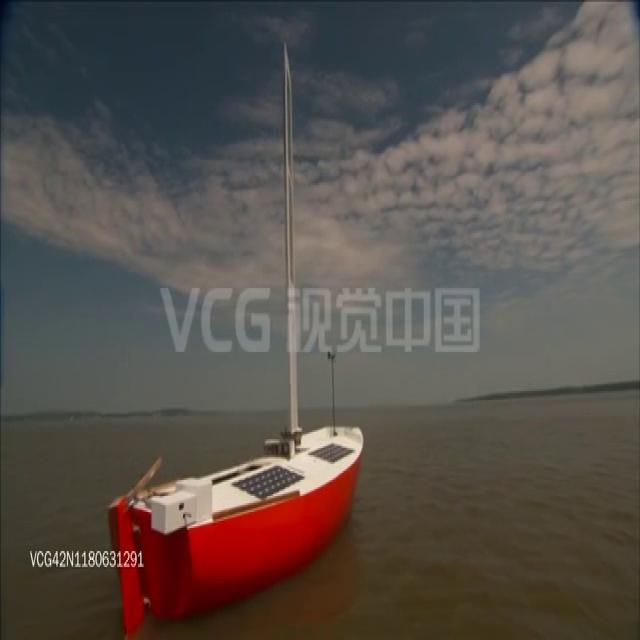houseboat: (101, 363, 365, 630)
